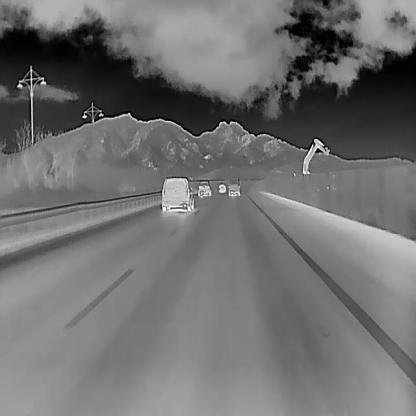car: (160, 176, 194, 210), (196, 178, 211, 196), (227, 177, 240, 196)
truck: (218, 183, 226, 193)
